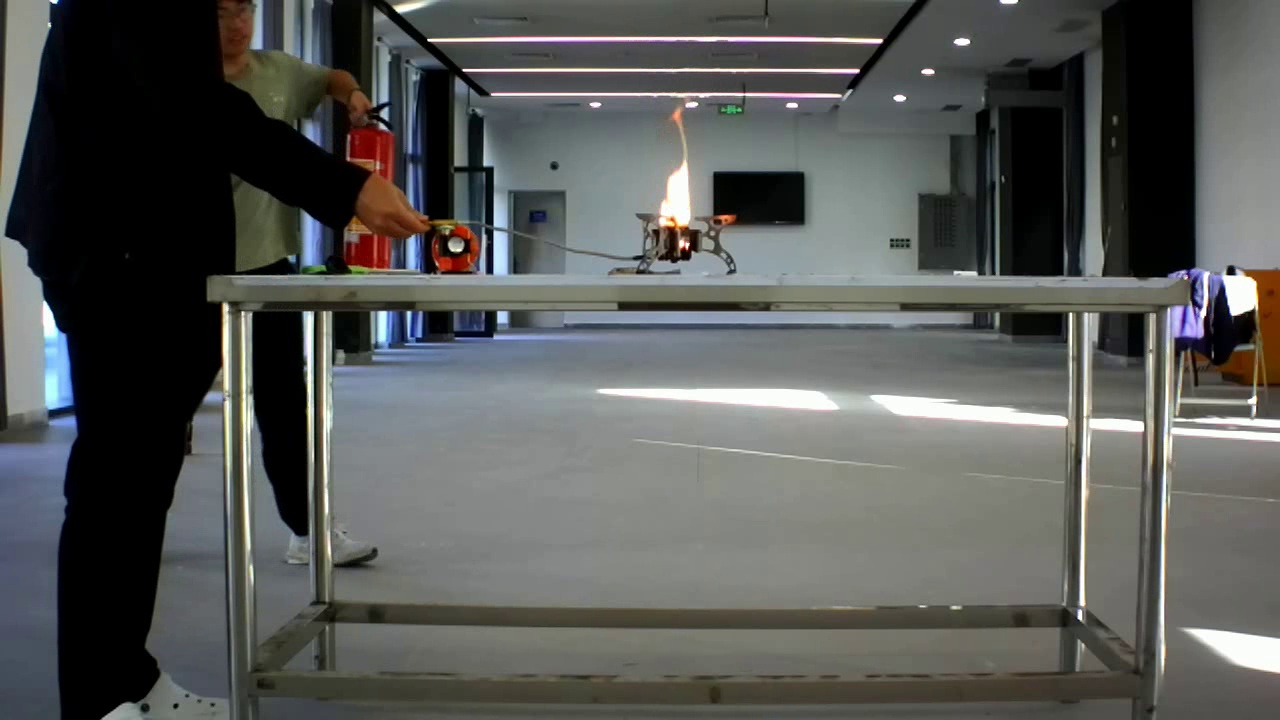Fire: (643, 97, 734, 263)
